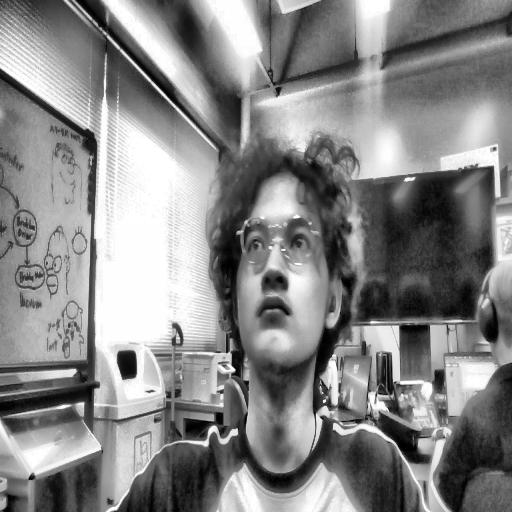Daifuku: (201, 120, 356, 389)
Not Daifuku: (475, 256, 512, 369)
